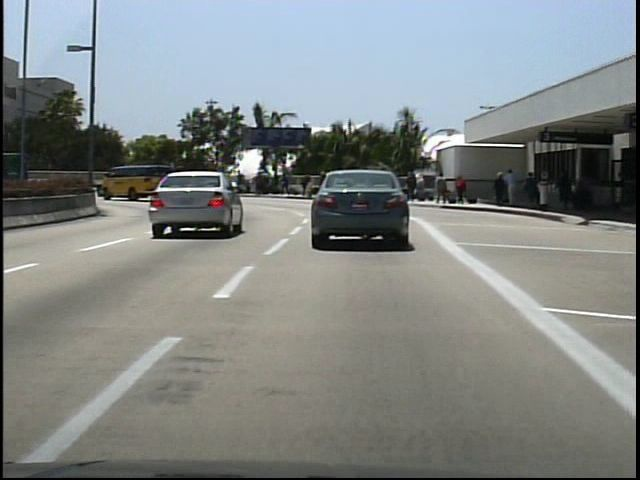person: (574, 166, 595, 217), (554, 164, 574, 213), (504, 166, 522, 209), (523, 169, 541, 210), (454, 172, 472, 209), (491, 170, 508, 208), (434, 169, 451, 205), (405, 168, 420, 203), (112, 163, 126, 192), (173, 169, 189, 194)
